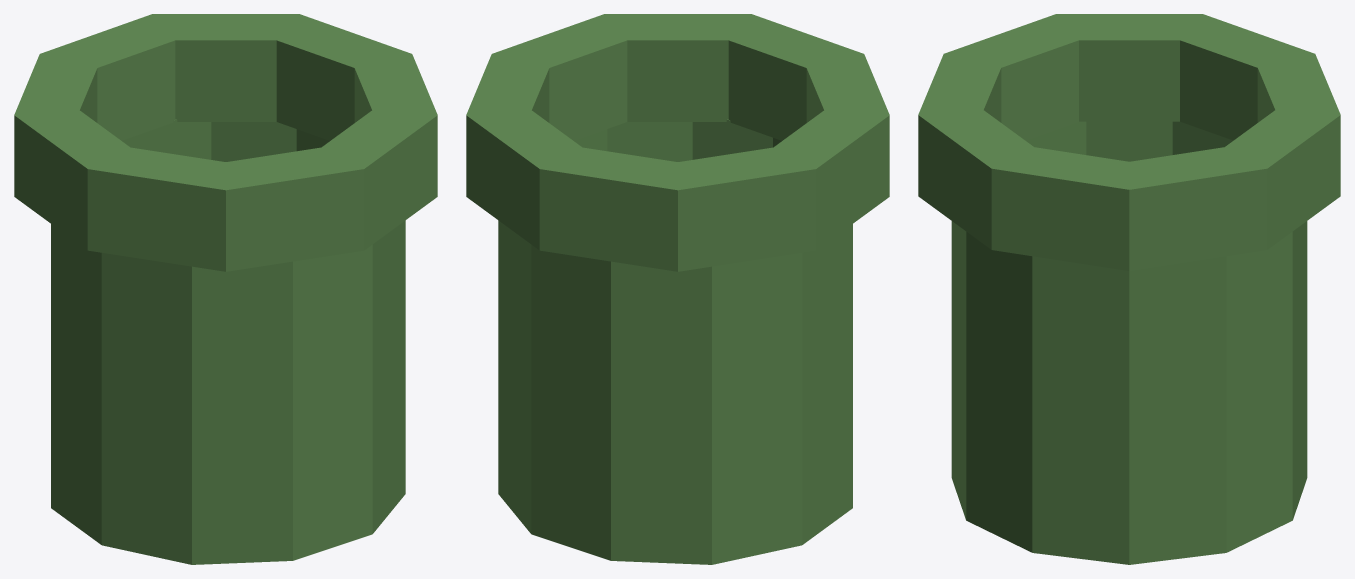
Rendered from pipe.fbx.
3 renders of one model, left to right at view 1: azimuth 30°, elevation 25°; view 2: azimuth 150°, elevation 25°; view 3: azimuth 270°, elevation 25°, orthographic.
Visible parts, largest first — view 1: Tube, Tube_1; view 2: Tube, Tube_1; view 3: Tube, Tube_1.
Boxes of the visible parts, <box> form: Tube: <box>51,119,405,564</box>; Tube_1: <box>14,14,437,271</box>; Tube: <box>498,119,852,564</box>; Tube_1: <box>466,14,889,271</box>; Tube: <box>951,121,1307,564</box>; Tube_1: <box>918,14,1340,271</box>.
Bounding box in the file's own units: 464 × 479 × 471.
